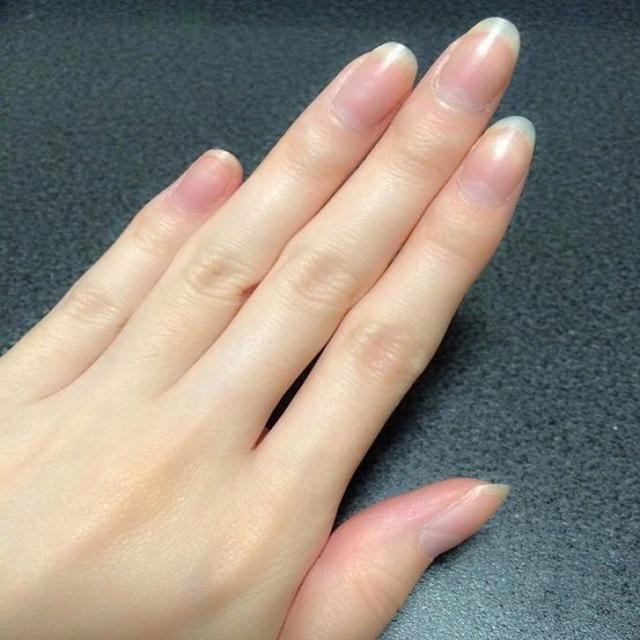Fingernail: (333, 42, 418, 132), (438, 17, 520, 110), (458, 116, 536, 205), (421, 484, 508, 560), (172, 150, 240, 212)
